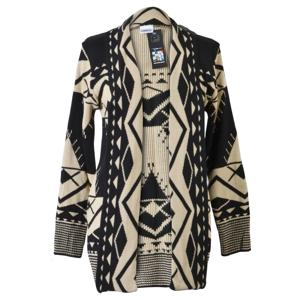C_cardigan sweater: (57, 15, 245, 297)
